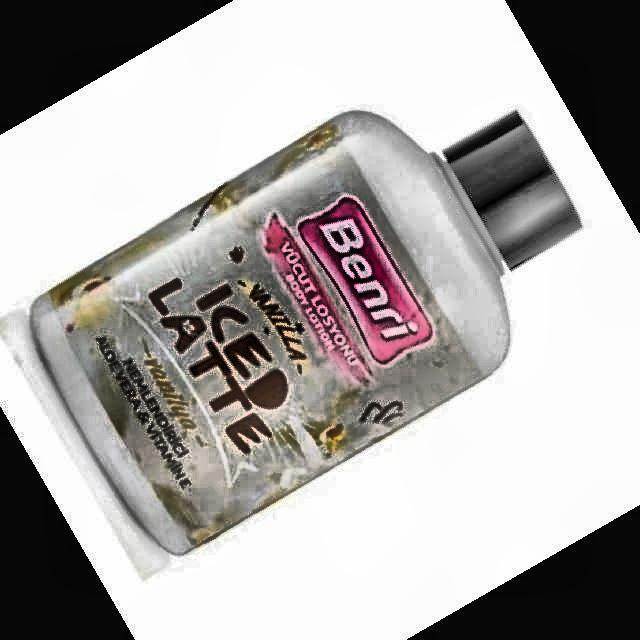plastic: (31, 112, 580, 553)
